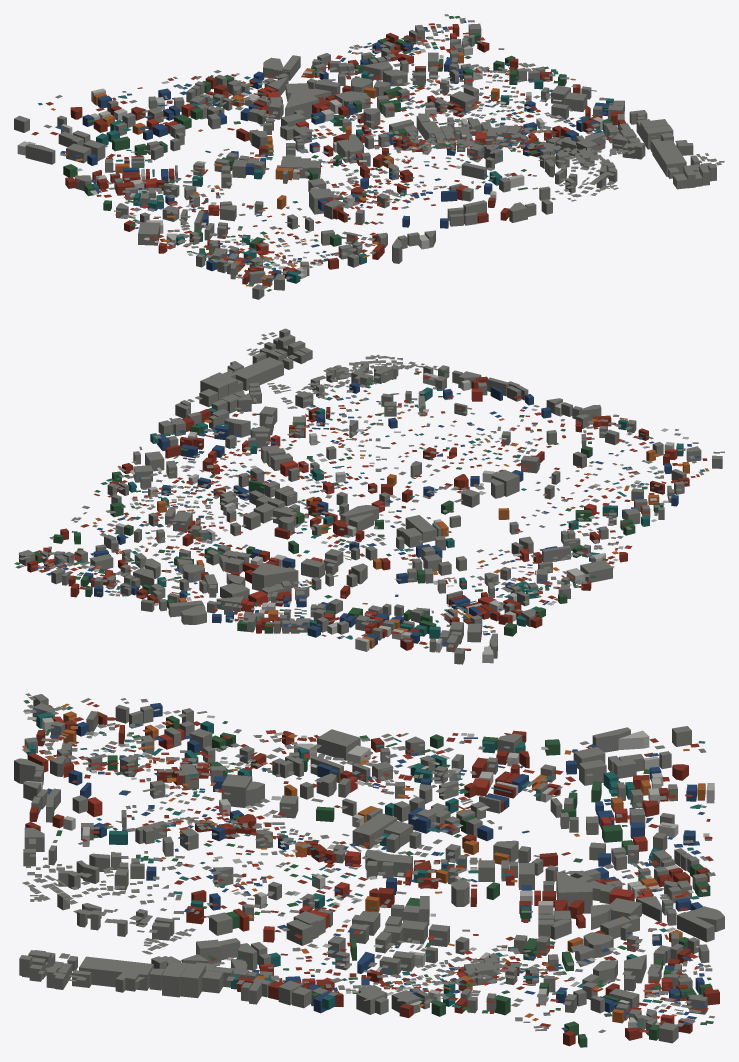
File: far-15-27360-14868.eebc7118.glb
3 views of the same model, one above another, from view 1: azimuth 30°, elevation 25°; view 2: azimuth 150°, elevation 25°; view 3: azimuth 270°, elevation 25° (orthographic). The views are drawn at different scales.
Size of the model in its own units: 1200 by 188 by 1208.
